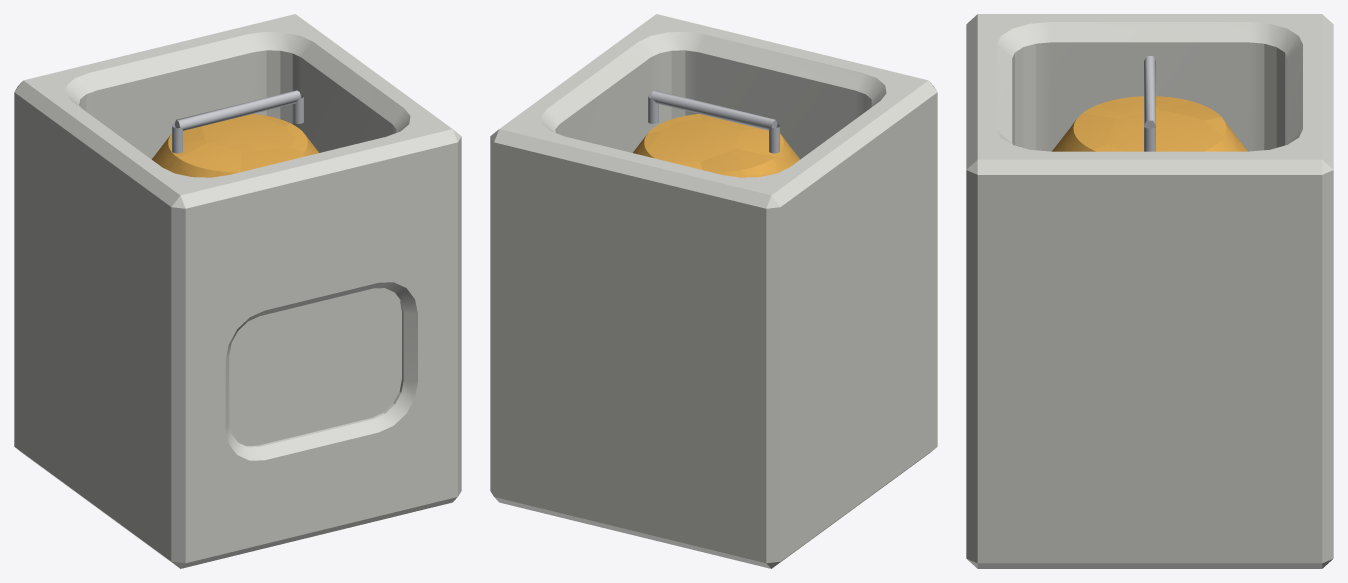
Rendered from ax_util_18_seismometer.glb.
The picture shows the model from 3 angles, left to right: view 1: azimuth 30°, elevation 25°; view 2: azimuth 150°, elevation 25°; view 3: azimuth 270°, elevation 25°; orthographic projection. The views are drawn at different scales.
Visible parts, largest first — view 1: housing, seismometer_dome, eva_handle; view 2: housing, seismometer_dome, eva_handle; view 3: housing, seismometer_dome, eva_handle.
Boxes of the visible parts, left/top/right/bottom form: housing: left=14, top=14, right=461, bottom=568; seismometer_dome: left=152, top=114, right=318, bottom=177; eva_handle: left=172, top=90, right=303, bottom=153; housing: left=490, top=14, right=937, bottom=568; seismometer_dome: left=633, top=114, right=799, bottom=177; eva_handle: left=648, top=90, right=779, bottom=153; housing: left=966, top=14, right=1333, bottom=568; seismometer_dome: left=1052, top=96, right=1247, bottom=151; eva_handle: left=1144, top=56, right=1155, bottom=151.
Bounding box in the file's own units: 0.48 × 0.59 × 0.48.
Materials: 3 (2 with a texture image).
